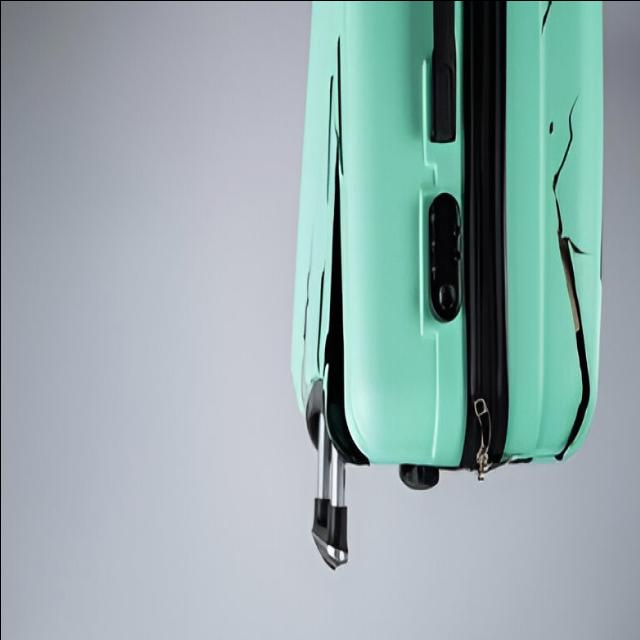Damage-bag: (309, 37, 368, 464), (551, 97, 590, 460), (300, 268, 314, 339), (541, 1, 551, 32)
